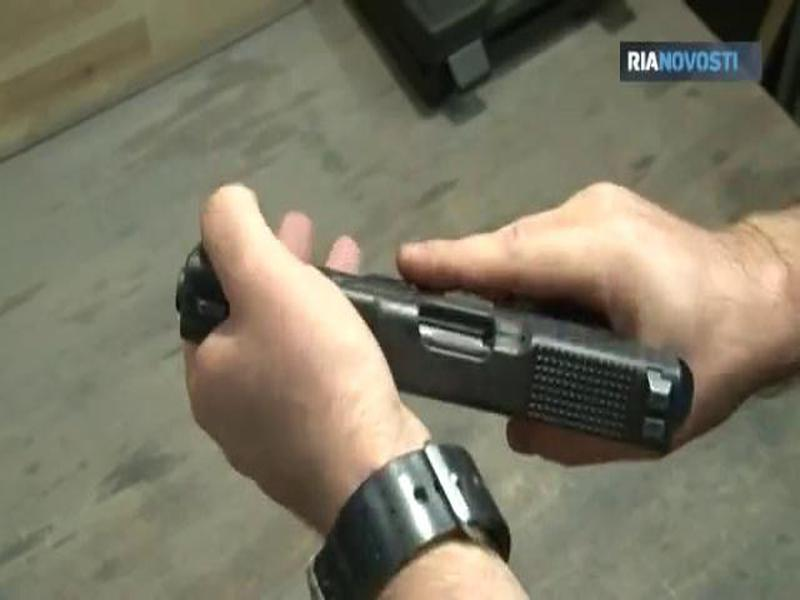Pistola: (121, 197, 776, 475)
